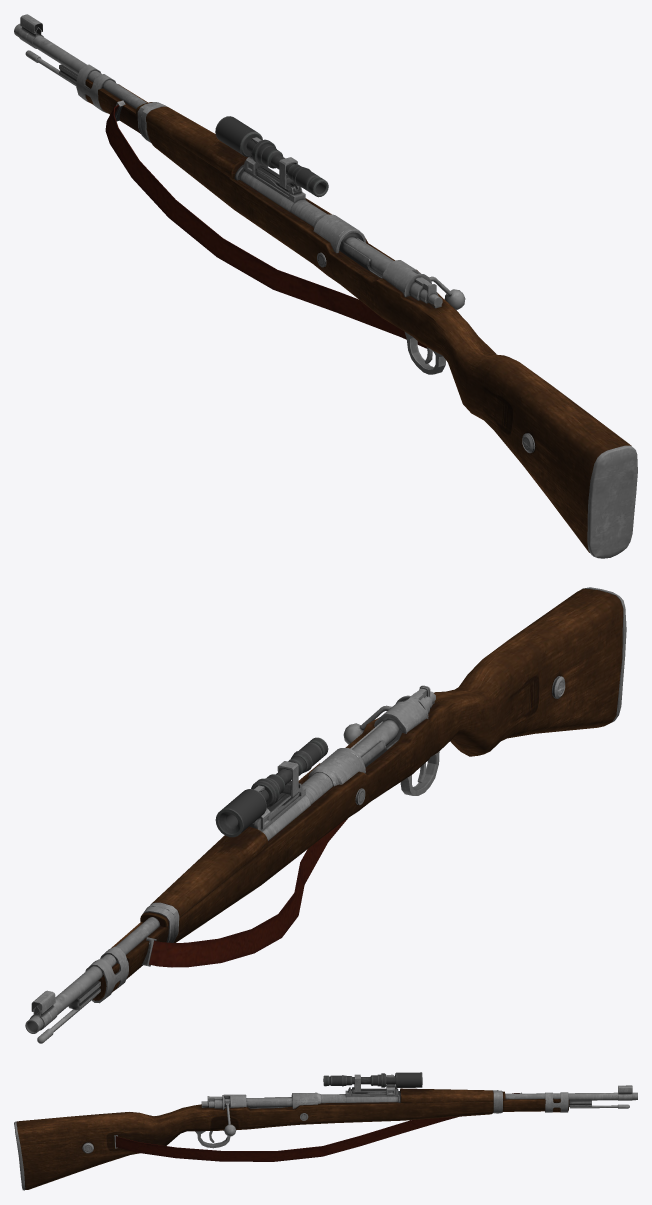
The model's file is w_kar98.glb.
3 renders of one model, top to bottom at view 1: azimuth 30°, elevation 25°; view 2: azimuth 150°, elevation 25°; view 3: azimuth 270°, elevation 25°, orthographic. The views are drawn at different scales.
Parts seen in each view (by area): view 1: body, bolt; view 2: body, bolt; view 3: body, bolt.
Boxes of the visible parts, <box> form: body: <box>14,14,637,558</box>; bolt: <box>382,260,442,308</box>; body: <box>25,587,626,1043</box>; bolt: <box>374,688,435,733</box>; body: <box>14,1072,637,1190</box>; bolt: <box>201,1094,246,1109</box>.
Bounding box in the file's own units: 0.1291 × 0.2116 × 1.11.
6 materials, 6 textured.
